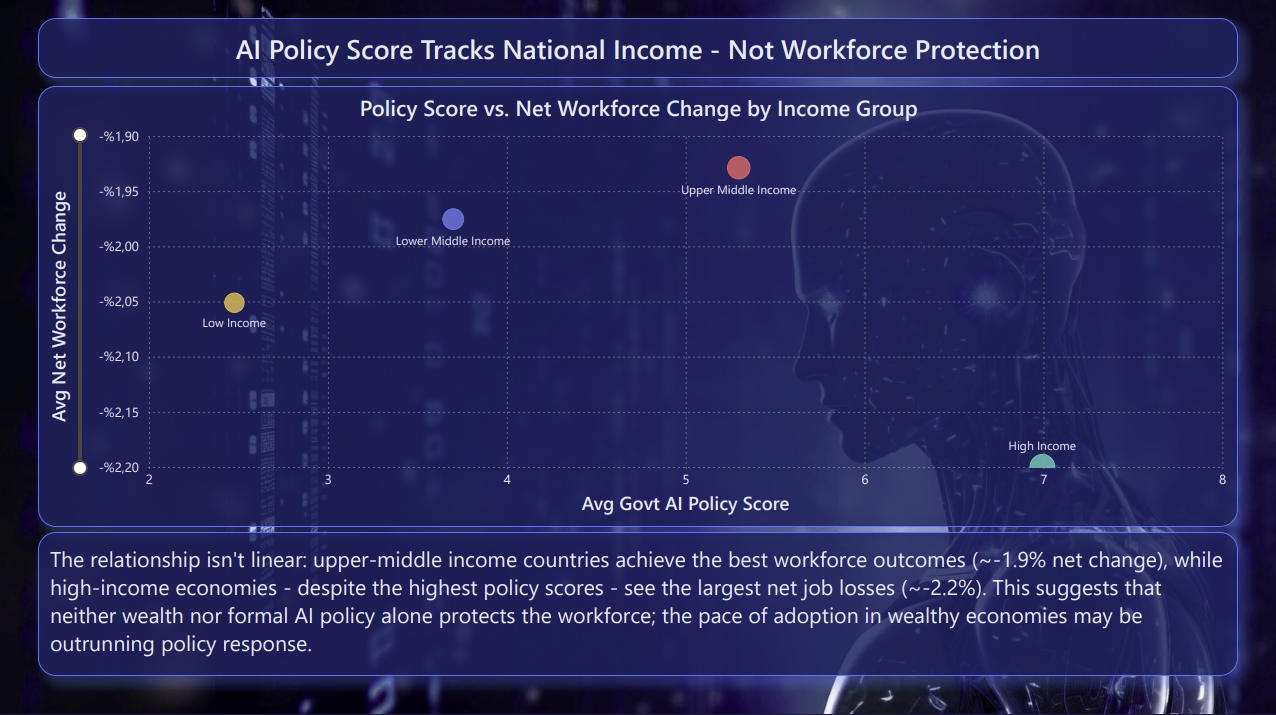

Layout of this report page (visuals, bound fields, positions):
{"tool":"powerbi","page":{"name":"Policy Impact Analysis","canvas":[1280,720],"ordinal":4},"visuals":[{"type":"textbox","box":[40,20,1200,60],"z":0},{"type":"scatterChart","title":"Policy Score vs. Net Workforce Change by Income Group","fields":{"X":["ai_workforce_displacement_global_2020_2026.Avg Govt AI Policy Score"],"Y":["ai_workforce_displacement_global_2020_2026.Avg Net Workforce Change"],"Size":["ai_workforce_displacement_global_2020_2026.Avg AI Adoption"],"Series":["Country.income_group"]},"box":[40,87.5,1200,441.2],"z":1000},{"type":"textbox","box":[40,533.8,1200,143.8],"z":2000}]}

Visuals, with their boxes in screenshot pixels (x1, y1, x2, y2), scaled from the page's 1280x720 canvas onto the 1276x715 screenshot:
textbox: (40, 20, 1236, 79)
"Policy Score vs. Net Workforce Change by Income Group" scatterChart: (40, 87, 1236, 525)
textbox: (40, 530, 1236, 673)
